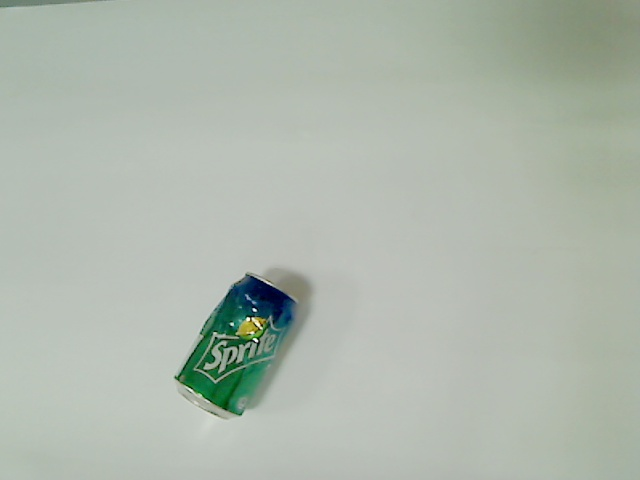can: (167, 270, 301, 423)
